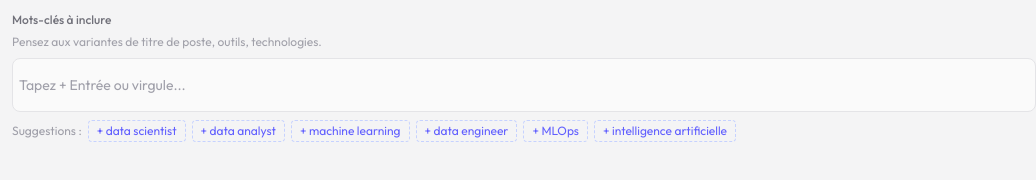
Test case: StepMotsClesInclus › clears the error after a valid change following a blocked add
Type "senior" into the field.
click(524, 85); type("senior")  # box [19,65,1029,105]
Then press Enter
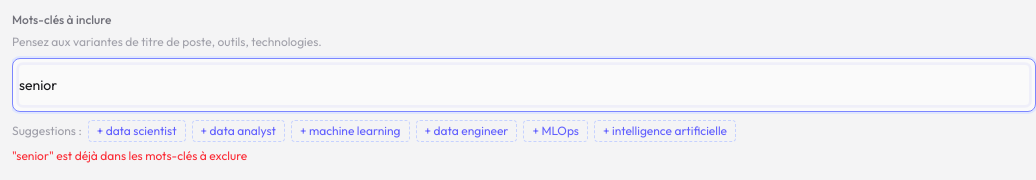
Expected: the text "\"senior\" est déjà dans les mots-clés à exclure" is shown, [12,148,247,163]
Replace the text in the field with "data scientist" at (524, 85), box [19,65,1029,105]
Then press Enter
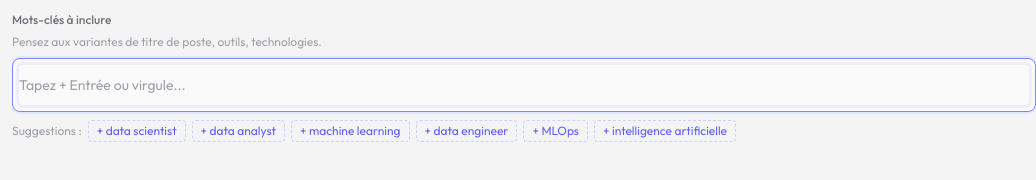
Expected: the text "déjà dans les mots-clés à exclure" is gone
